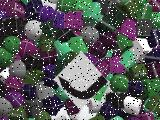Right: (54, 52, 108, 110)
